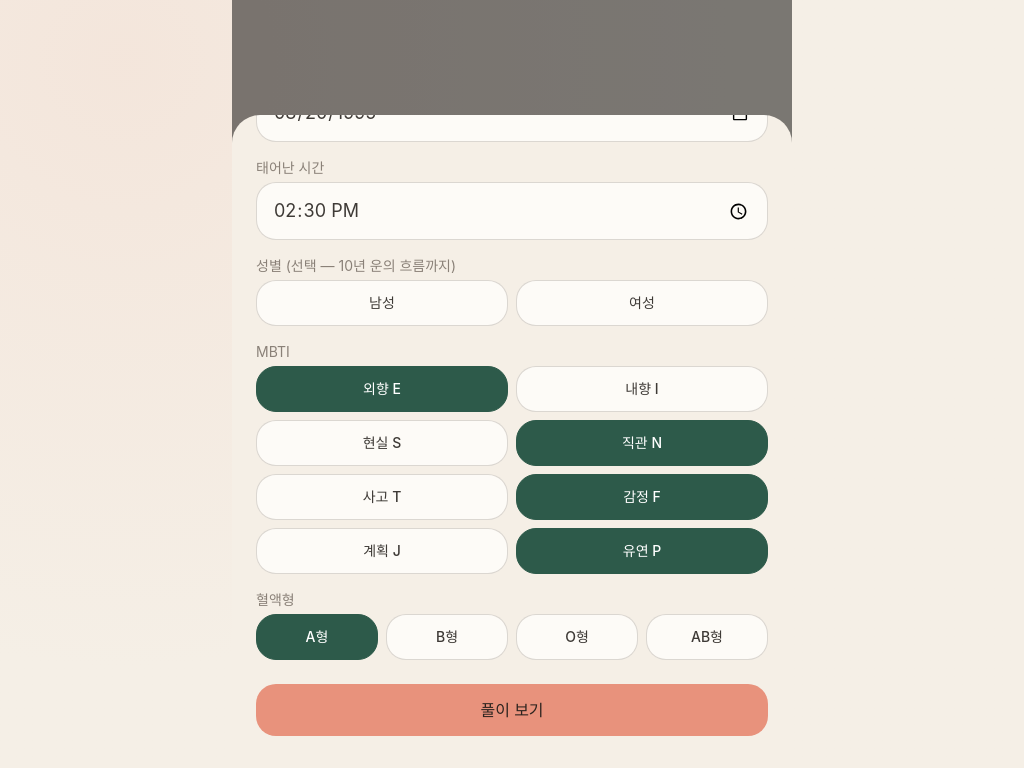
Test case: GuestReadingView — 게스트 총운/사주상품 뷰 (입력 시트 관문) › career 상품은 제출 시 computeGuestCreditReading을 부르고 SajuChart는 없다
(page scrolled)
Click the button "풀이 보기" at (512, 710), box [256,684,768,736]
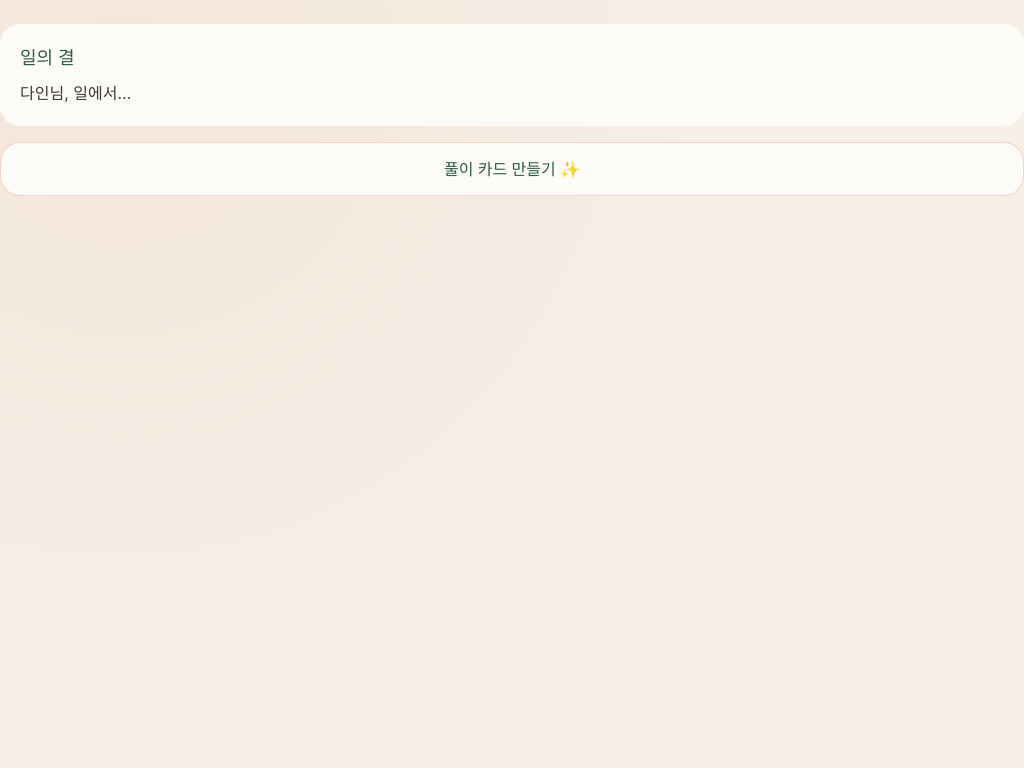
Result: the heading "일의 결" is shown at [20,48,75,68]
